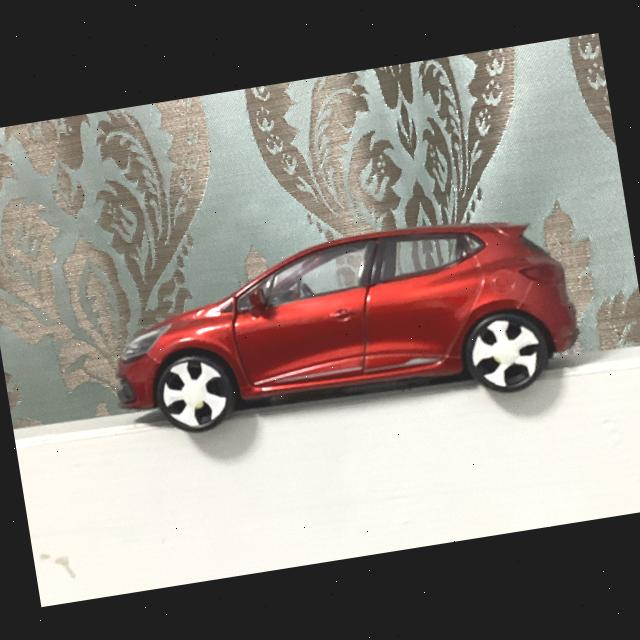Yanlis_Jant: (468, 316, 545, 392), (161, 360, 229, 430)
